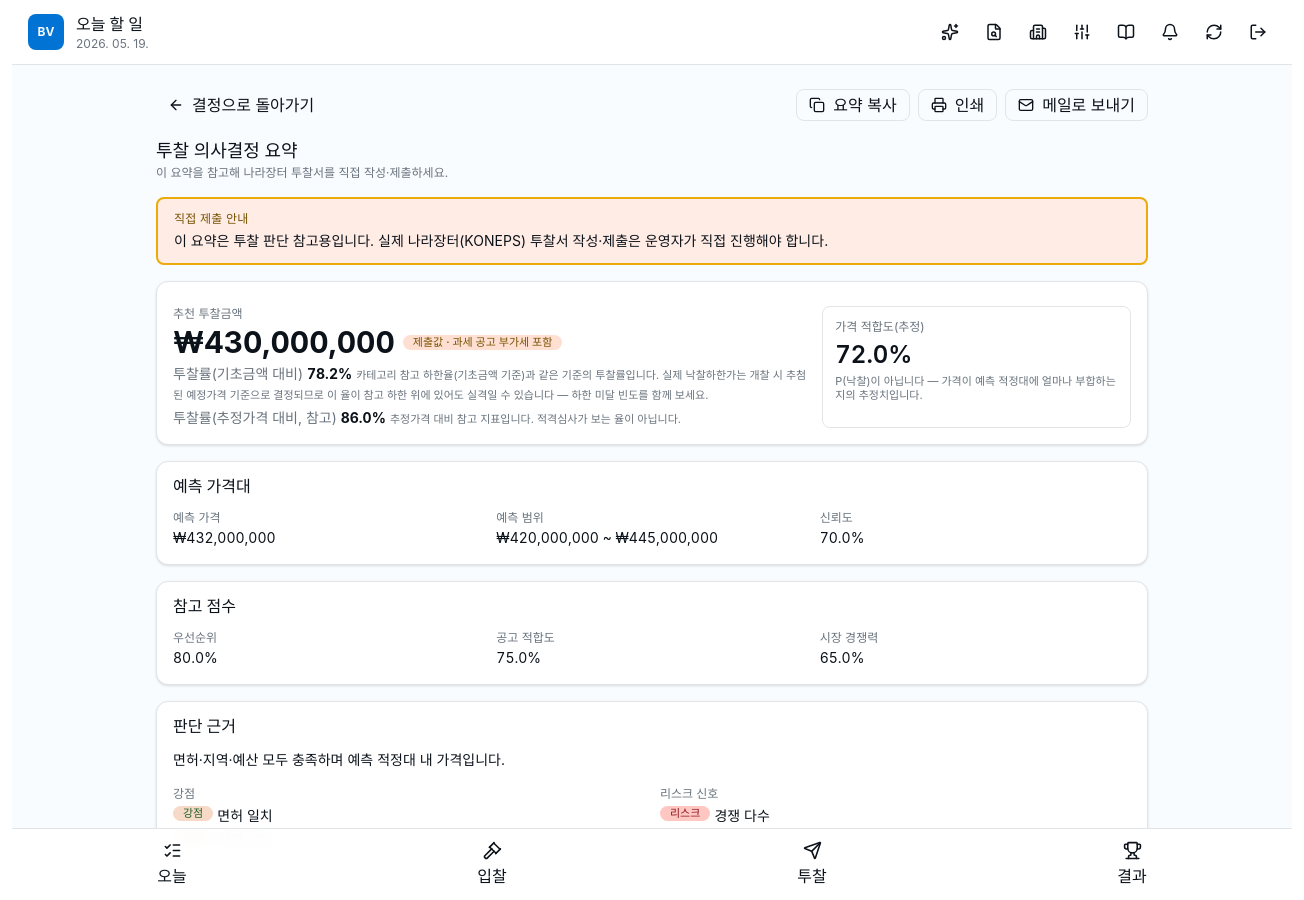
Scenario: BidSummaryScreen › delivery_status=sent 이라도 dry_run=true 이면 미발송(미리보기) 토스트로 강등한다 (정직 §2)
This screenshot has width=1304, height=900.
Click the button "메일로 보내기" at (1077, 105), box [1005,89,1148,121]
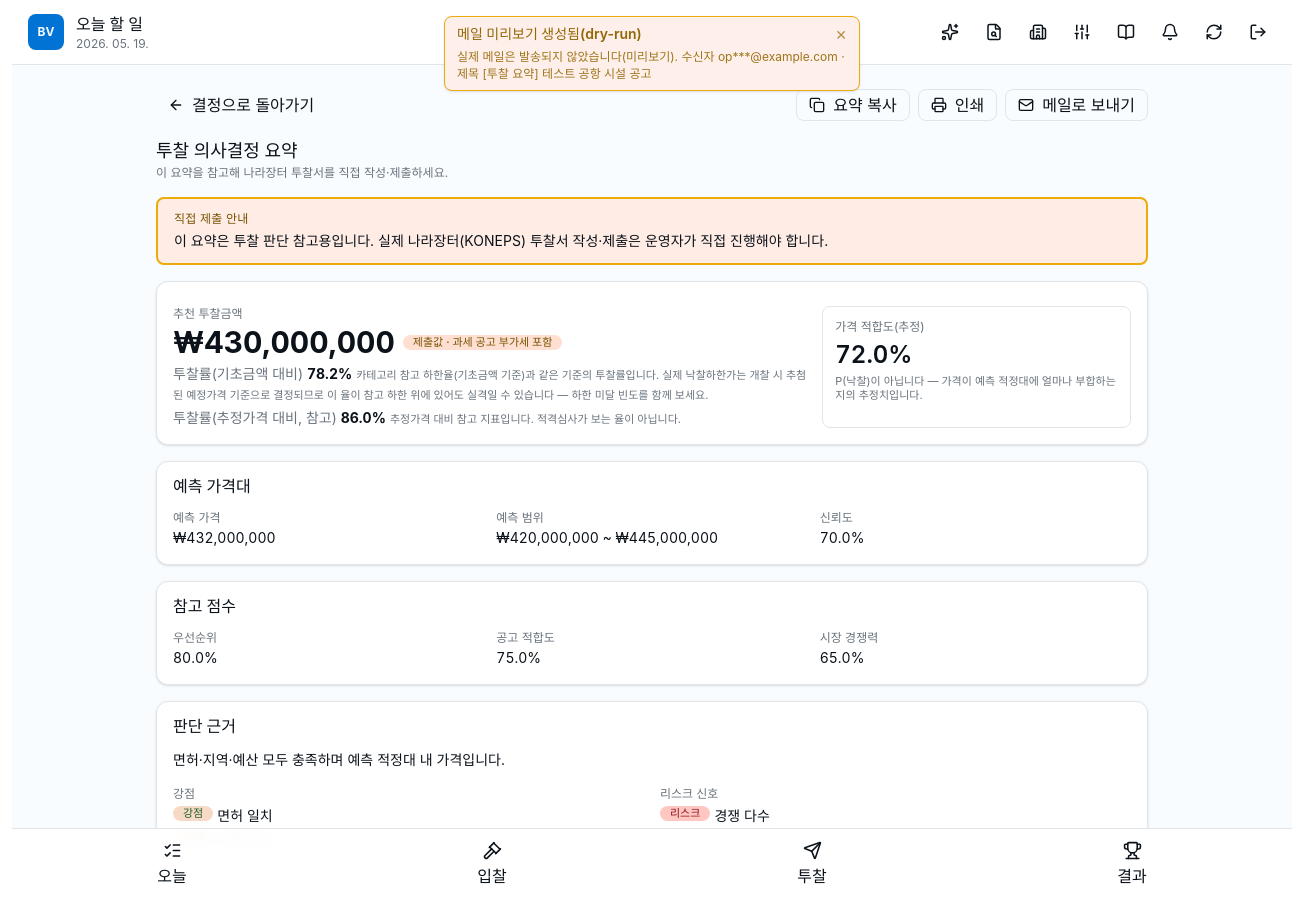
Expected: the message is shown, [444,16,860,91]
Expected: the text "실제 메일은 발송되지 않았습니다" is shown, [457,49,845,80]
